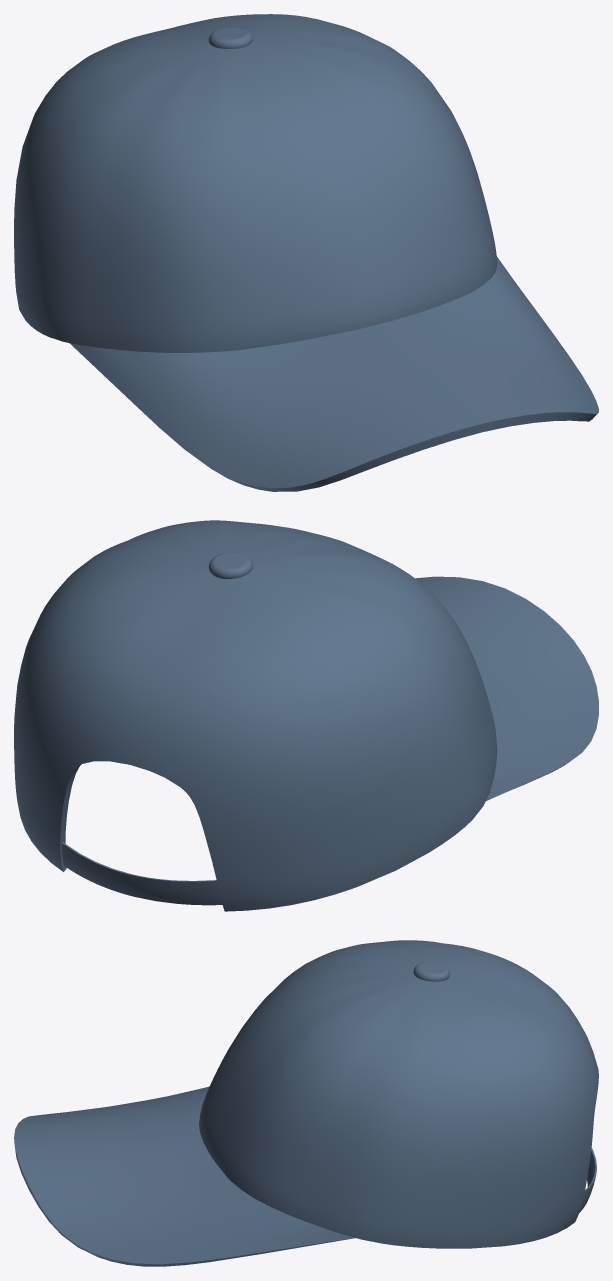
File: 635_ベースボールキャップ.glb
3 renders of one model, top to bottom at view 1: azimuth 30°, elevation 25°; view 2: azimuth 150°, elevation 25°; view 3: azimuth 270°, elevation 25°, orthographic. The views are drawn at different scales.
Visible parts, largest first — view 1: body; view 2: body; view 3: body.
Boxes of the visible parts, x1=… form: body: x1=14, y1=14, x2=598, y2=491; body: x1=14, y1=520, x2=598, y2=911; body: x1=14, y1=940, x2=598, y2=1266.
Size of the model in its own units: 0.148 by 0.0921 by 0.2135.
